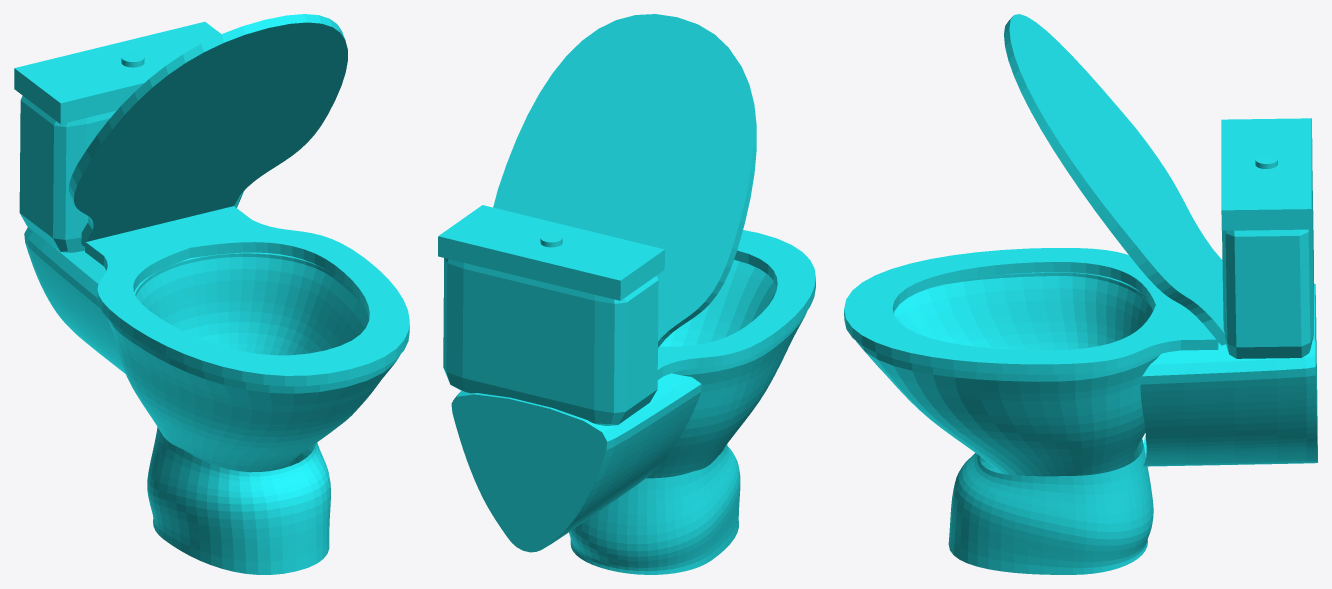
File: toilet.glb
3 views of the same model, side by side, from view 1: azimuth 30°, elevation 25°; view 2: azimuth 150°, elevation 25°; view 3: azimuth 270°, elevation 25° (orthographic). The views are drawn at different scales.
Parts seen in each view (by area): view 1: cover_6, tube_3, seat_4, stand_1, cap_7, tank_5, back_2; view 2: cover_6, tank_5, back_2, stand_1, tube_3, cap_7, seat_4; view 3: tube_3, cover_6, seat_4, stand_1, back_2, tank_5, cap_7.
Part boxes in pixels (x1=…): cover_6: x1=68, y1=14, x2=347, y2=246; tube_3: x1=108, y1=252, x2=399, y2=472; seat_4: x1=85, y1=206, x2=409, y2=386; stand_1: x1=147, y1=427, x2=330, y2=574; cap_7: x1=14, y1=21, x2=221, y2=124; tank_5: x1=19, y1=95, x2=243, y2=252; back_2: x1=24, y1=227, x2=125, y2=373; cover_6: x1=493, y1=14, x2=756, y2=347; tank_5: x1=443, y1=258, x2=658, y2=425; back_2: x1=451, y1=373, x2=701, y2=552; stand_1: x1=569, y1=444, x2=740, y2=574; tube_3: x1=646, y1=260, x2=806, y2=478; cap_7: x1=438, y1=205, x2=664, y2=300; seat_4: x1=657, y1=230, x2=815, y2=379; tube_3: x1=856, y1=272, x2=1160, y2=476; cover_6: x1=1004, y1=14, x2=1225, y2=345; seat_4: x1=844, y1=248, x2=1218, y2=374; stand_1: x1=948, y1=439, x2=1153, y2=574; back_2: x1=1140, y1=283, x2=1317, y2=466; tank_5: x1=1222, y1=171, x2=1313, y2=358; cap_7: x1=1221, y1=118, x2=1312, y2=230.
Bounding box in the file's own units: 0.489 × 1.01 × 0.8386.
